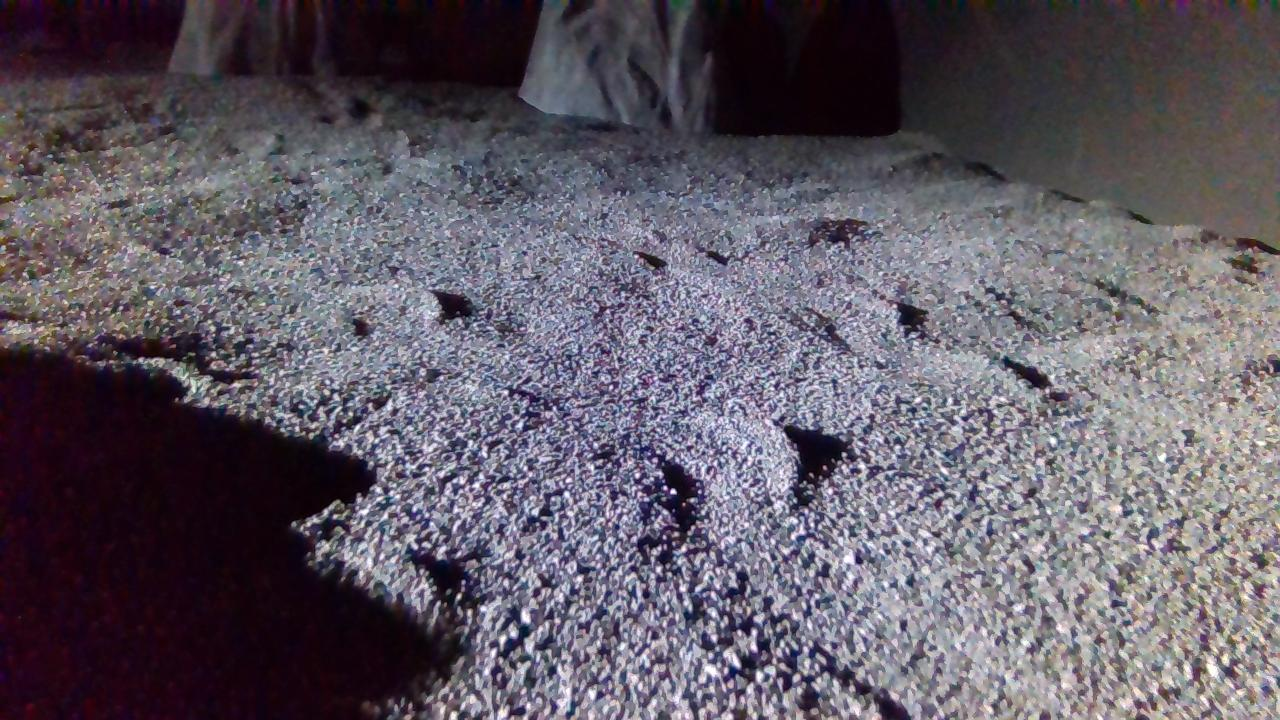rock: (520, 0, 714, 131), (166, 0, 333, 74)
